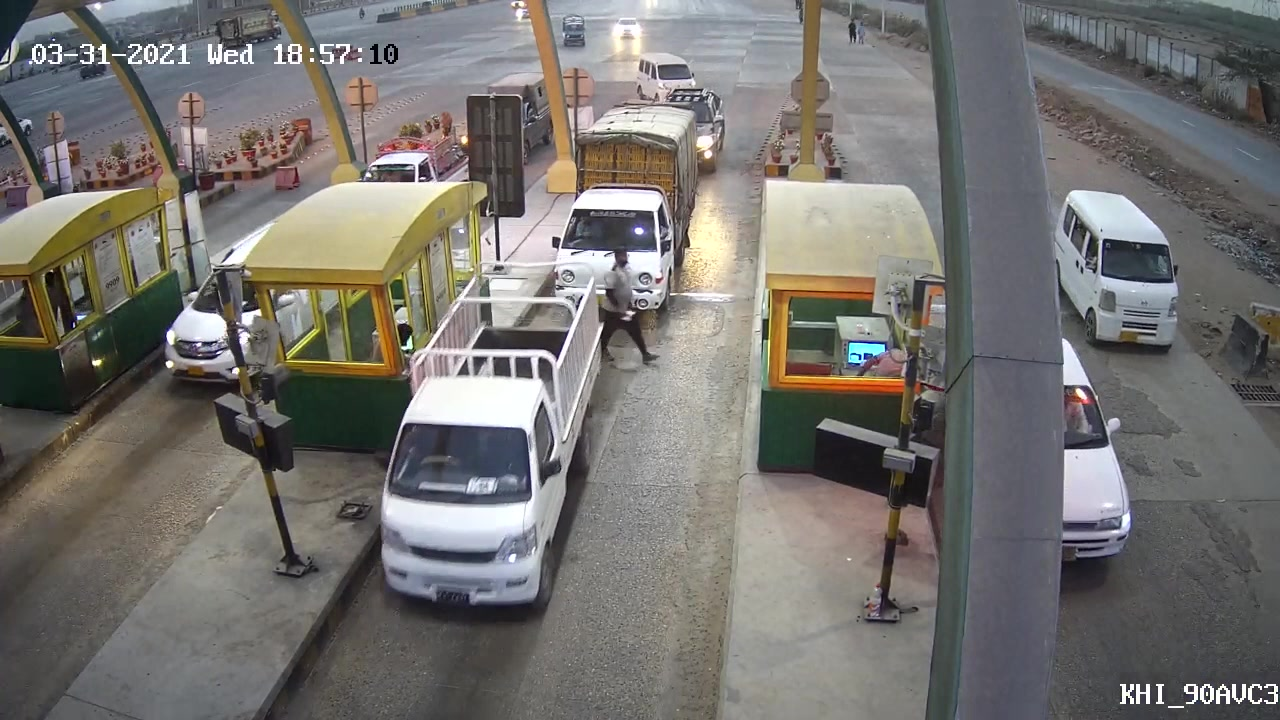F2: (374, 258, 603, 618), (543, 99, 713, 317)
